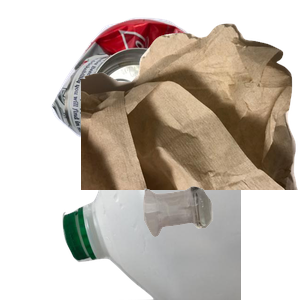glass: (141, 184, 300, 300)
metal: (48, 15, 251, 175)
plastic: (60, 120, 300, 300)
trash: (81, 21, 300, 201)
